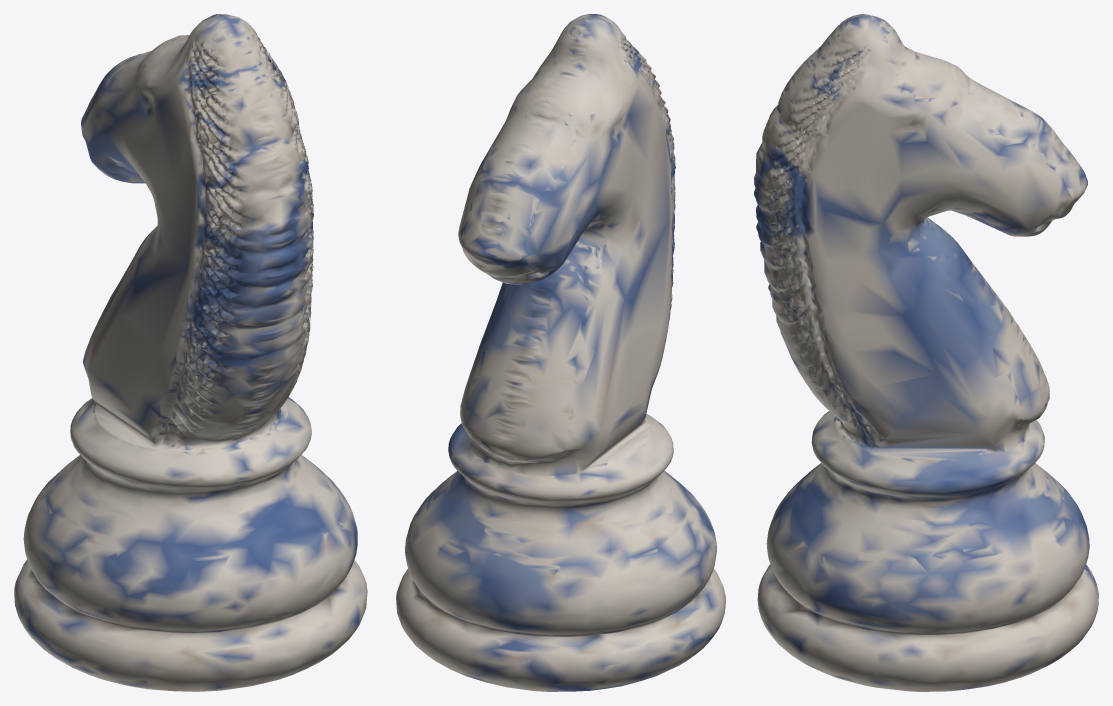
The model's file is knight-white-hd.glb.
3 renders of one model, left to right at view 1: azimuth 30°, elevation 25°; view 2: azimuth 150°, elevation 25°; view 3: azimuth 270°, elevation 25°, orthographic. The views are drawn at different scales.
Parts seen in each view (by area): view 1: Cobalt Vein white knight; view 2: Cobalt Vein white knight; view 3: Cobalt Vein white knight.
Boxes of the visible parts, x1,y1,x2,y2 form: Cobalt Vein white knight: [14, 14, 367, 691]; Cobalt Vein white knight: [396, 14, 725, 691]; Cobalt Vein white knight: [754, 14, 1098, 691].
Bounding box in the file's own units: 0.595 × 1.19 × 0.6013.
